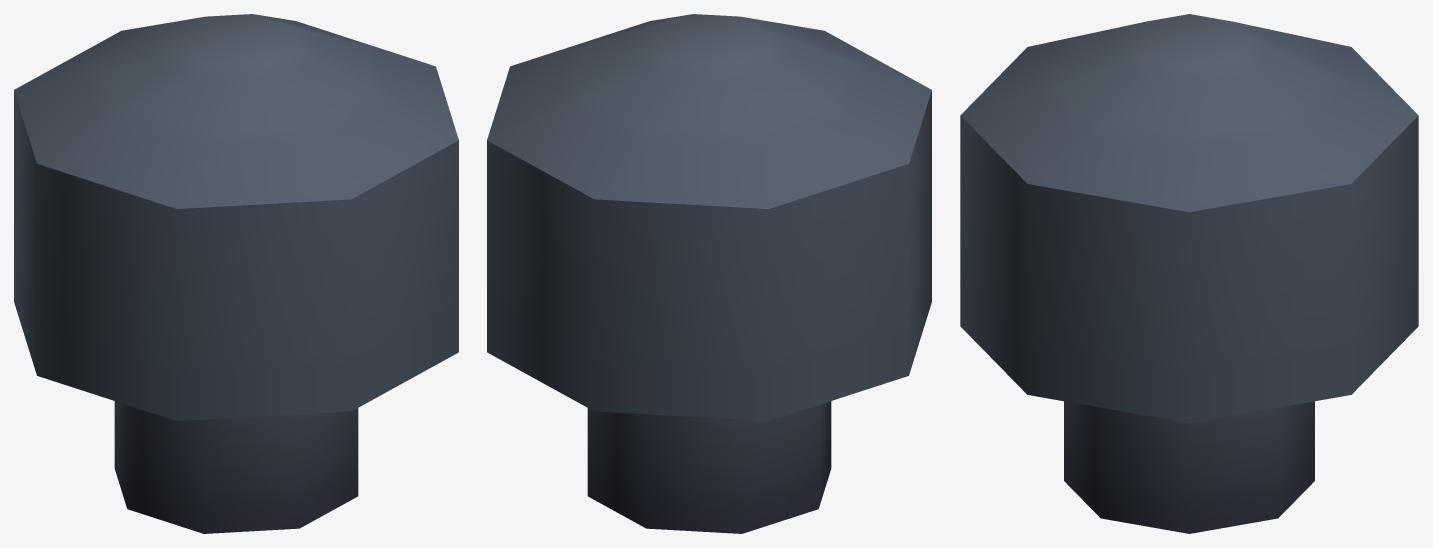
The model's file is Chimney_5_C.fbx.
3 renders of one model, left to right at view 1: azimuth 30°, elevation 25°; view 2: azimuth 150°, elevation 25°; view 3: azimuth 270°, elevation 25°, orthographic.
Visible parts, largest first — view 1: Chimney_5_C; view 2: Chimney_5_C; view 3: Chimney_5_C.
Boxes of the visible parts, left/top/right/bottom form: Chimney_5_C: left=14, top=14, right=458, bottom=533; Chimney_5_C: left=487, top=14, right=931, bottom=533; Chimney_5_C: left=960, top=14, right=1418, bottom=533.
Bounding box in the file's own units: 56.18 × 59.66 × 56.18.
